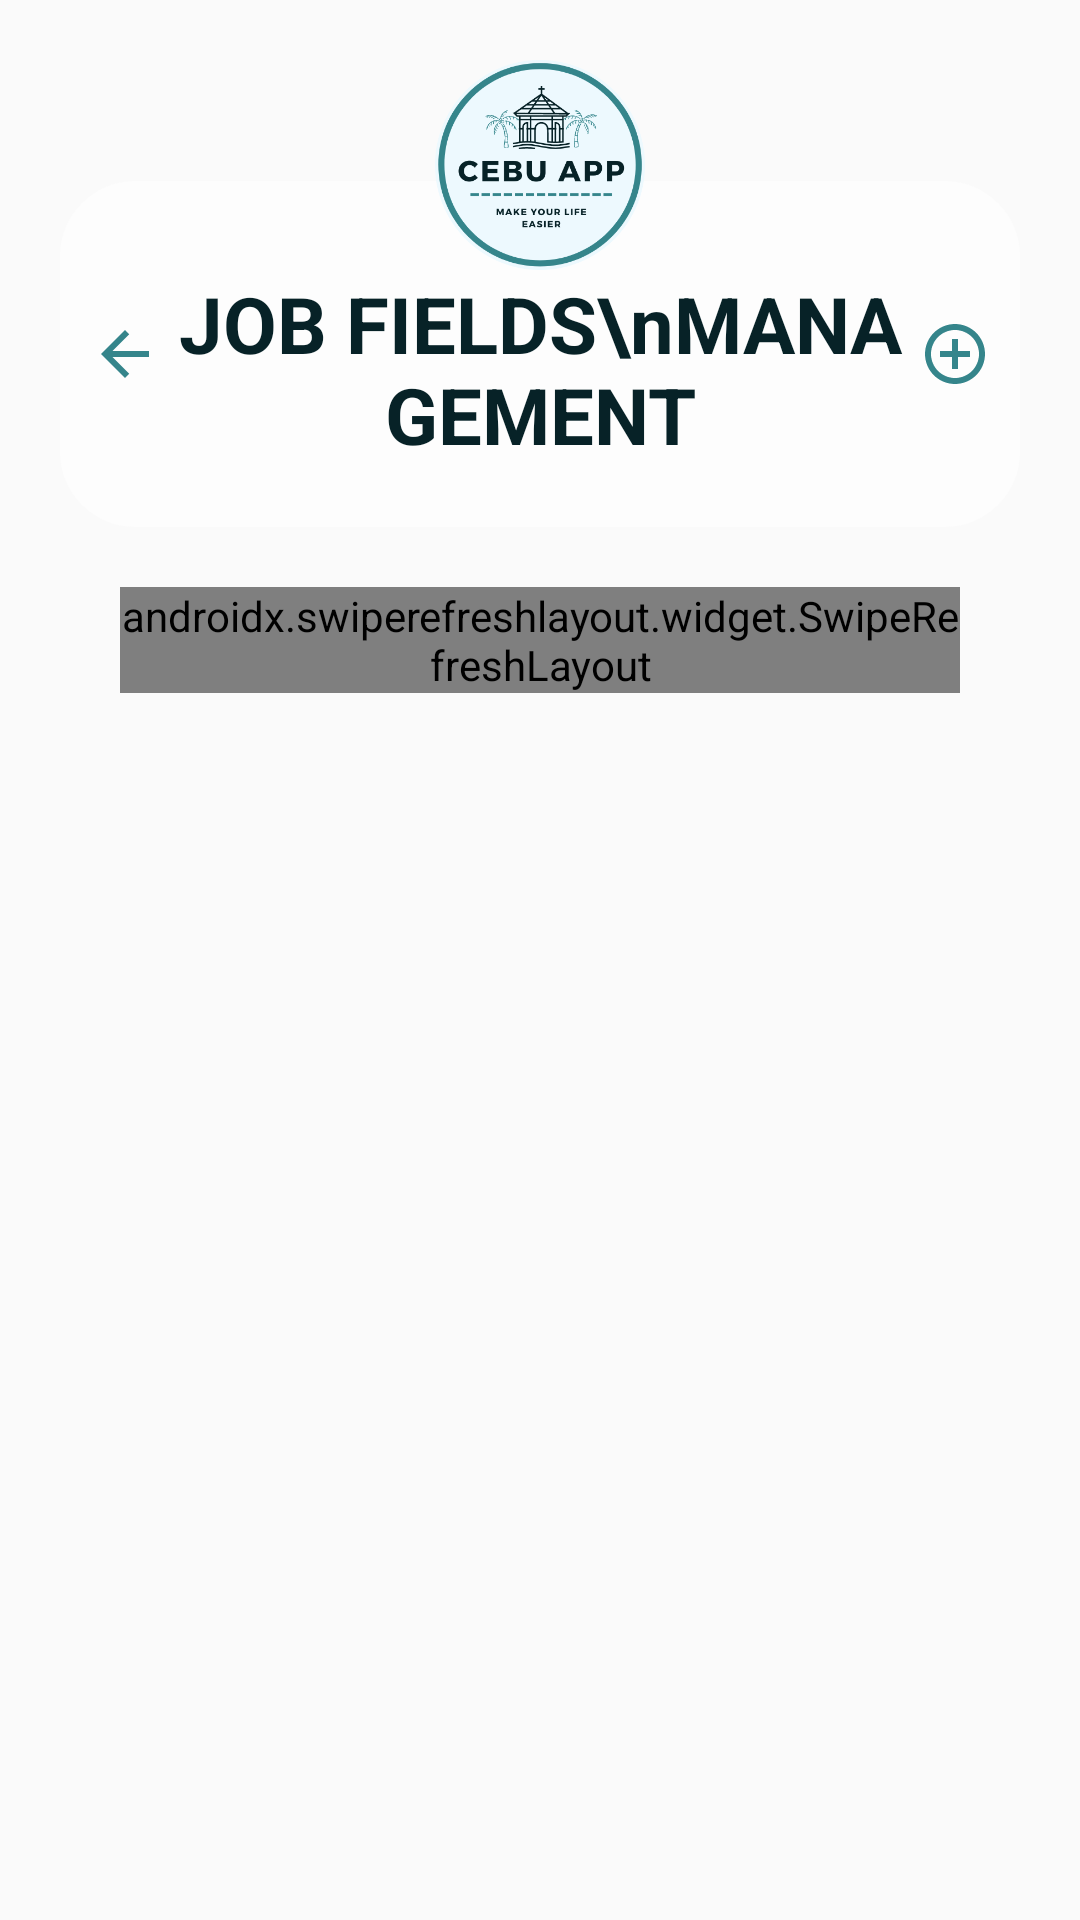

Where icons sit on this 1080w x 1920h app screen, as detection(x1, y1, x2, y2):
add: detection(925, 324, 985, 384)
back arrow: detection(101, 330, 149, 378)
